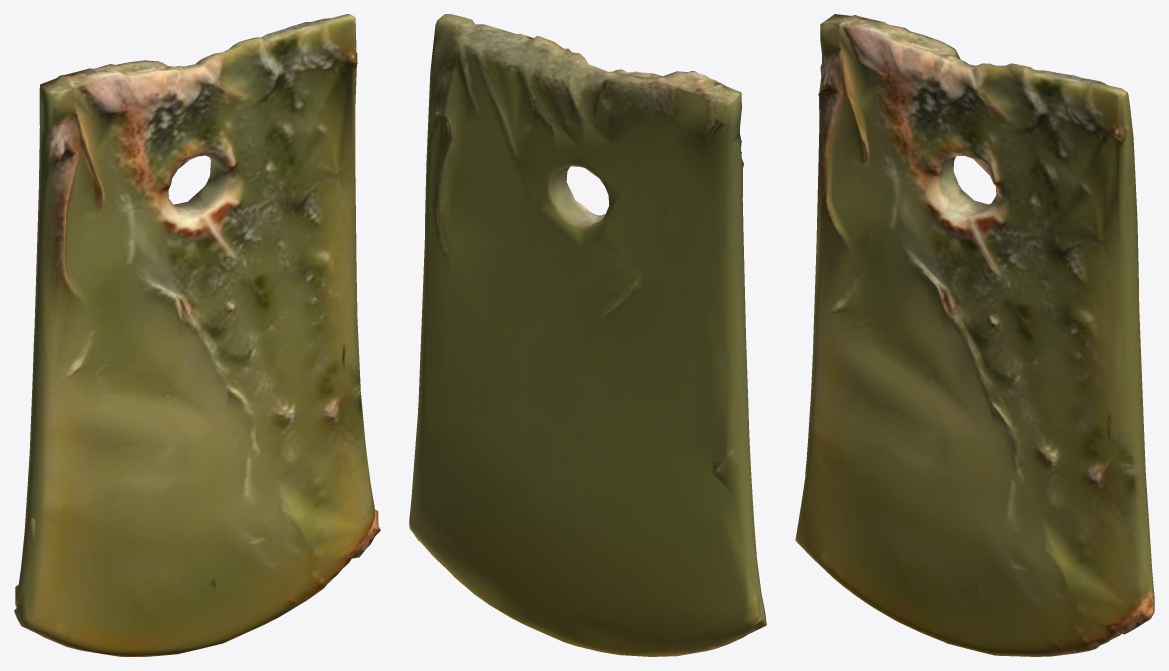
Rendered from jade-yue-overview.glb.
3 views of the same model, side by side, from view 1: azimuth 30°, elevation 25°; view 2: azimuth 150°, elevation 25°; view 3: azimuth 330°, elevation 25° (orthographic).
Parts seen in each view (by area): view 1: node_0; view 2: node_0; view 3: node_0.
Boxes of the visible parts, x1=… form: node_0: x1=14, y1=14, x2=380, y2=656; node_0: x1=409, y1=14, x2=766, y2=656; node_0: x1=795, y1=14, x2=1154, y2=656.
Bounding box in the file's own units: 0.6686 × 1.07 × 0.0844.
Materials: 1 (1 with a texture image).
